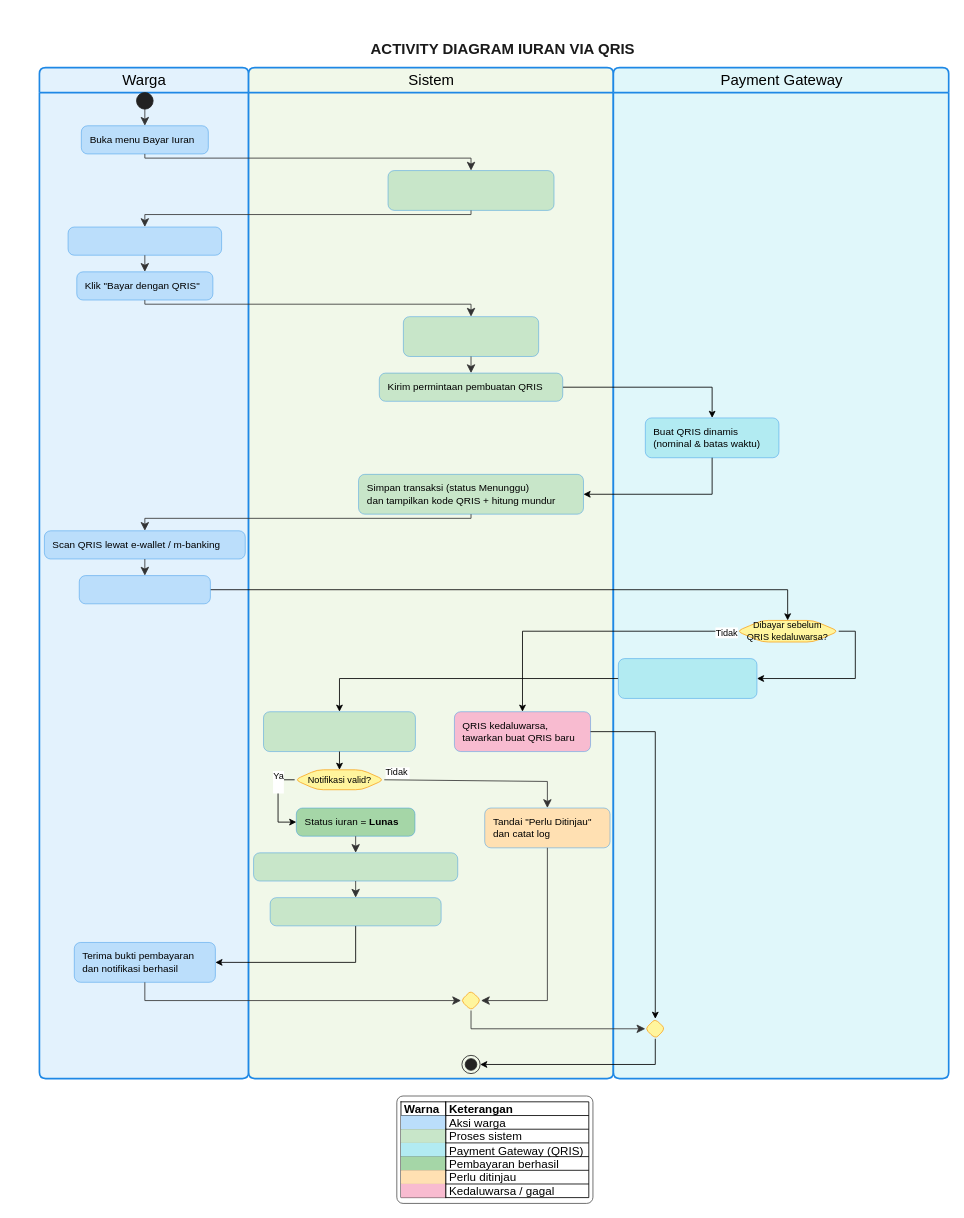
Some shapes in this 964 by 1218 pixel diagram are drawn without their labels. Each missing label, with the centre of its shape:
"Ambil nominal tagihan (nominal default, FR-17)" goes at [471,336].
"Catat pemasukan ke Riwayat Transaksi" goes at [355,866].
"Konfirmasi pembayaran" goes at [144,589].
"Perbarui saldo kas & Dashboard" goes at [355,911].
"Pilih tagihan (bulan & tahun)" goes at [144,240].
"Proses pembayaran & kirim notifikasi ke sistem" goes at [687,678].
"Tampilkan daftar tagihan iuran yang belum lunas" goes at [470,190].
"Verifikasi keaslian notifikasi dan kesesuaian nominal" goes at [339,731].
